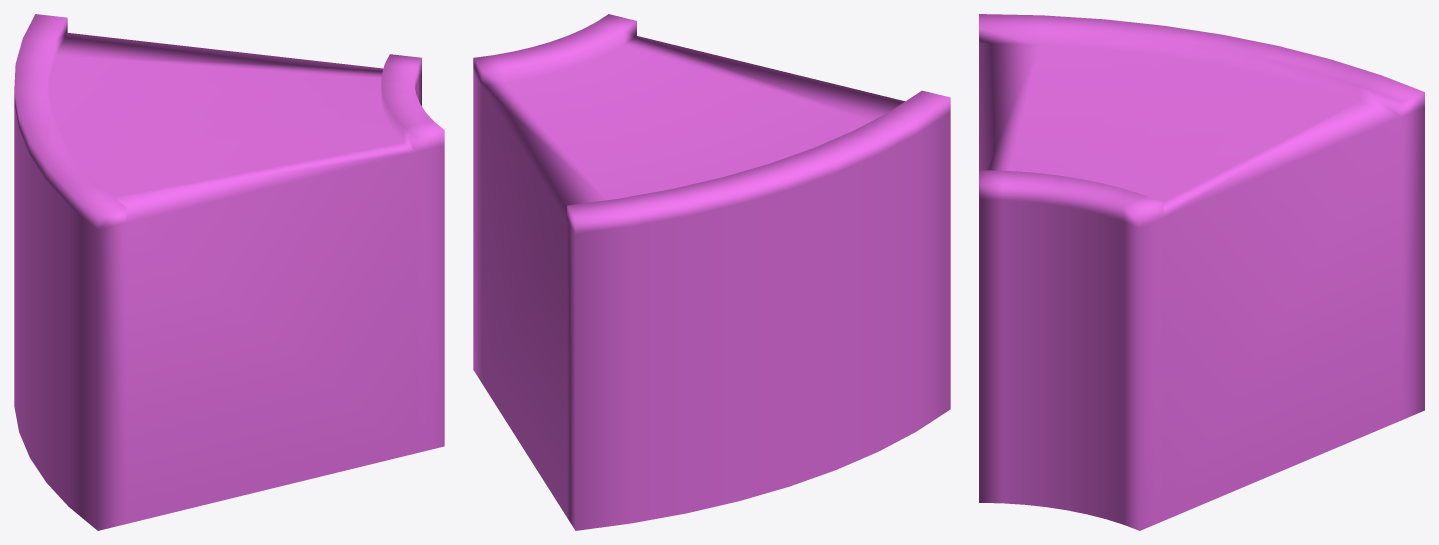
3 renders of one model, left to right at view 1: azimuth 30°, elevation 25°; view 2: azimuth 150°, elevation 25°; view 3: azimuth 270°, elevation 25°, orthographic. The views are drawn at different scales.
Visible parts, largest first — view 1: Mesh; view 2: Mesh; view 3: Mesh.
Part boxes in pixels (x1=…): Mesh: x1=14, y1=14, x2=444, y2=530; Mesh: x1=473, y1=14, x2=950, y2=530; Mesh: x1=979, y1=14, x2=1424, y2=530.
Size of the model in its own units: 559 by 418 by 531.
